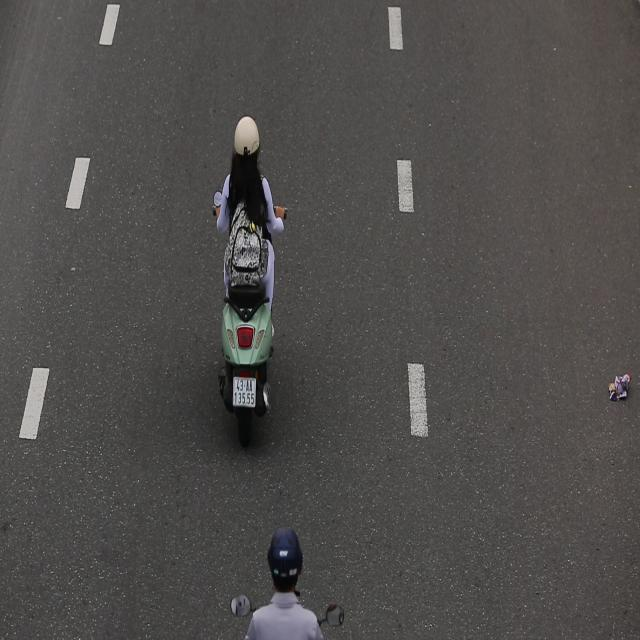motorbike: (207, 112, 288, 440)
